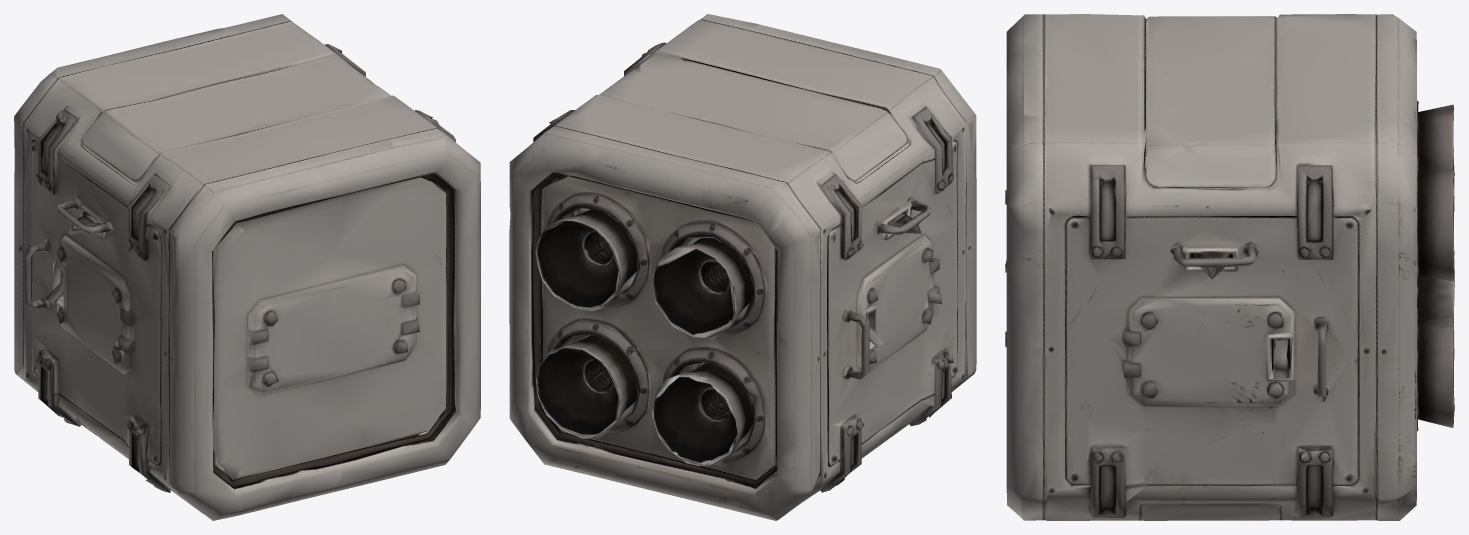
File: engineHousing.glb
3 renders of one model, left to right at view 1: azimuth 30°, elevation 25°; view 2: azimuth 150°, elevation 25°; view 3: azimuth 270°, elevation 25°, orthographic. The views are drawn at different scales.
Visible parts, largest first — view 1: tripo_node_78d3a128-aca1-4446-a9e3-982d68474367; view 2: tripo_node_78d3a128-aca1-4446-a9e3-982d68474367; view 3: tripo_node_78d3a128-aca1-4446-a9e3-982d68474367.
Boxes of the visible parts, x1,y1,x2,y2 form: tripo_node_78d3a128-aca1-4446-a9e3-982d68474367: (14,14,480,520); tripo_node_78d3a128-aca1-4446-a9e3-982d68474367: (509,14,976,520); tripo_node_78d3a128-aca1-4446-a9e3-982d68474367: (1005,14,1454,520).
Size of the model in its own units: 12 by 10.66 by 11.49.
Materials: 1 (1 with a texture image).
